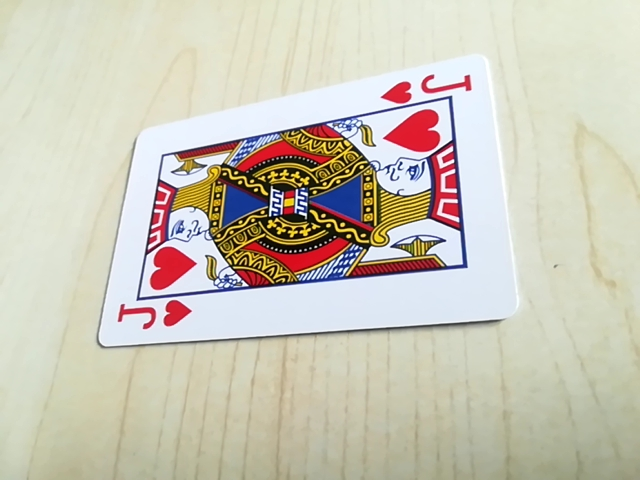hx j: (378, 68, 477, 107), (112, 294, 195, 340)
